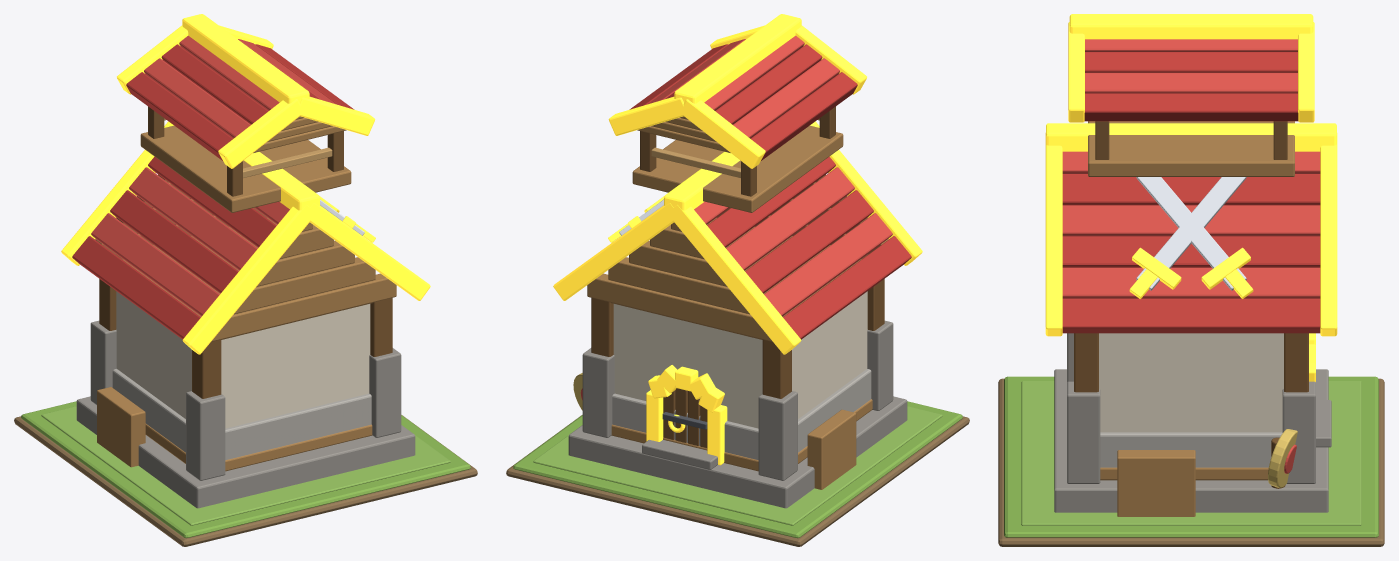
File: barracks_lv4.glb
3 views of the same model, side by side, from view 1: azimuth 30°, elevation 25°; view 2: azimuth 150°, elevation 25°; view 3: azimuth 270°, elevation 25° (orthographic). The views are drawn at different scales.
Parts seen in each view (by area): view 1: PlasterCore, Foundation, Base_Inner, Base_Grass, BarracksStoneWainscot, RoofPlatform, Base_Dirt, Bargeboard_-1_-1, RoofSlope_-1_2, RoofSlope_-1_5, RoofSlope_-1_3, RoofSlope_-1_4 (+29 smaller); view 2: PlasterCore, Foundation, Base_Inner, Base_Grass, RoofPlatform, Base_Dirt, BarracksStoneWainscot, Bargeboard_1_-1, RoofSlope_-1_2, RoofSlope_-1_5, RoofSlope_-1_3, RoofSlope_-1_4 (+32 smaller); view 3: PlasterCore, Base_Inner, Base_Grass, RoofSlope_1_5, RoofPlatform, Foundation, RoofSlope_1_2, RoofSlope_1_4, RoofSlope_1_3, RoofSlope_1_1, RoofSlope_1_3.001, RidgeBeam.001 (+25 smaller).
Part boxes in pixels (box(x1,y1,x2,y2)): PlasterCore: box(116, 291, 370, 428); Foundation: box(76, 396, 415, 508); Base_Inner: box(41, 406, 450, 525); Base_Grass: box(21, 401, 470, 538); BarracksStoneWainscot: box(112, 369, 371, 460); RoofPlatform: box(140, 125, 351, 212); Base_Dirt: box(14, 415, 477, 546); Bargeboard_-1_-1: box(182, 204, 313, 354); RoofSlope_-1_2: box(129, 167, 257, 270); RoofSlope_-1_5: box(72, 236, 200, 339); RoofSlope_-1_3: box(110, 190, 238, 293); RoofSlope_-1_4: box(91, 213, 219, 316); PlasterCore: box(613, 291, 867, 428); Foundation: box(568, 396, 907, 508); Base_Inner: box(533, 406, 942, 525); Base_Grass: box(513, 401, 962, 538); RoofPlatform: box(632, 125, 843, 212); Base_Dirt: box(506, 415, 969, 546); BarracksStoneWainscot: box(612, 369, 871, 460); Bargeboard_1_-1: box(673, 204, 801, 354); RoofSlope_-1_2: box(726, 167, 854, 270); RoofSlope_-1_5: box(783, 236, 911, 339); RoofSlope_-1_3: box(745, 190, 873, 293); RoofSlope_-1_4: box(764, 213, 892, 316); PlasterCore: box(1099, 333, 1283, 432); Base_Inner: box(1021, 381, 1361, 525); Base_Grass: box(1004, 376, 1378, 537); RoofSlope_1_5: box(1062, 298, 1320, 333); RoofPlatform: box(1088, 121, 1294, 176); Foundation: box(1054, 369, 1328, 512); RoofSlope_1_2: box(1062, 205, 1320, 236); RoofSlope_1_4: box(1062, 267, 1320, 298); RoofSlope_1_3: box(1062, 236, 1320, 267); RoofSlope_1_1: box(1062, 174, 1320, 205); RoofSlope_1_3.001: box(1084, 93, 1298, 121); RidgeBeam.001: box(1069, 14, 1313, 39).
Bounding box in the file's own units: 2.76 × 3.53 × 2.76.
